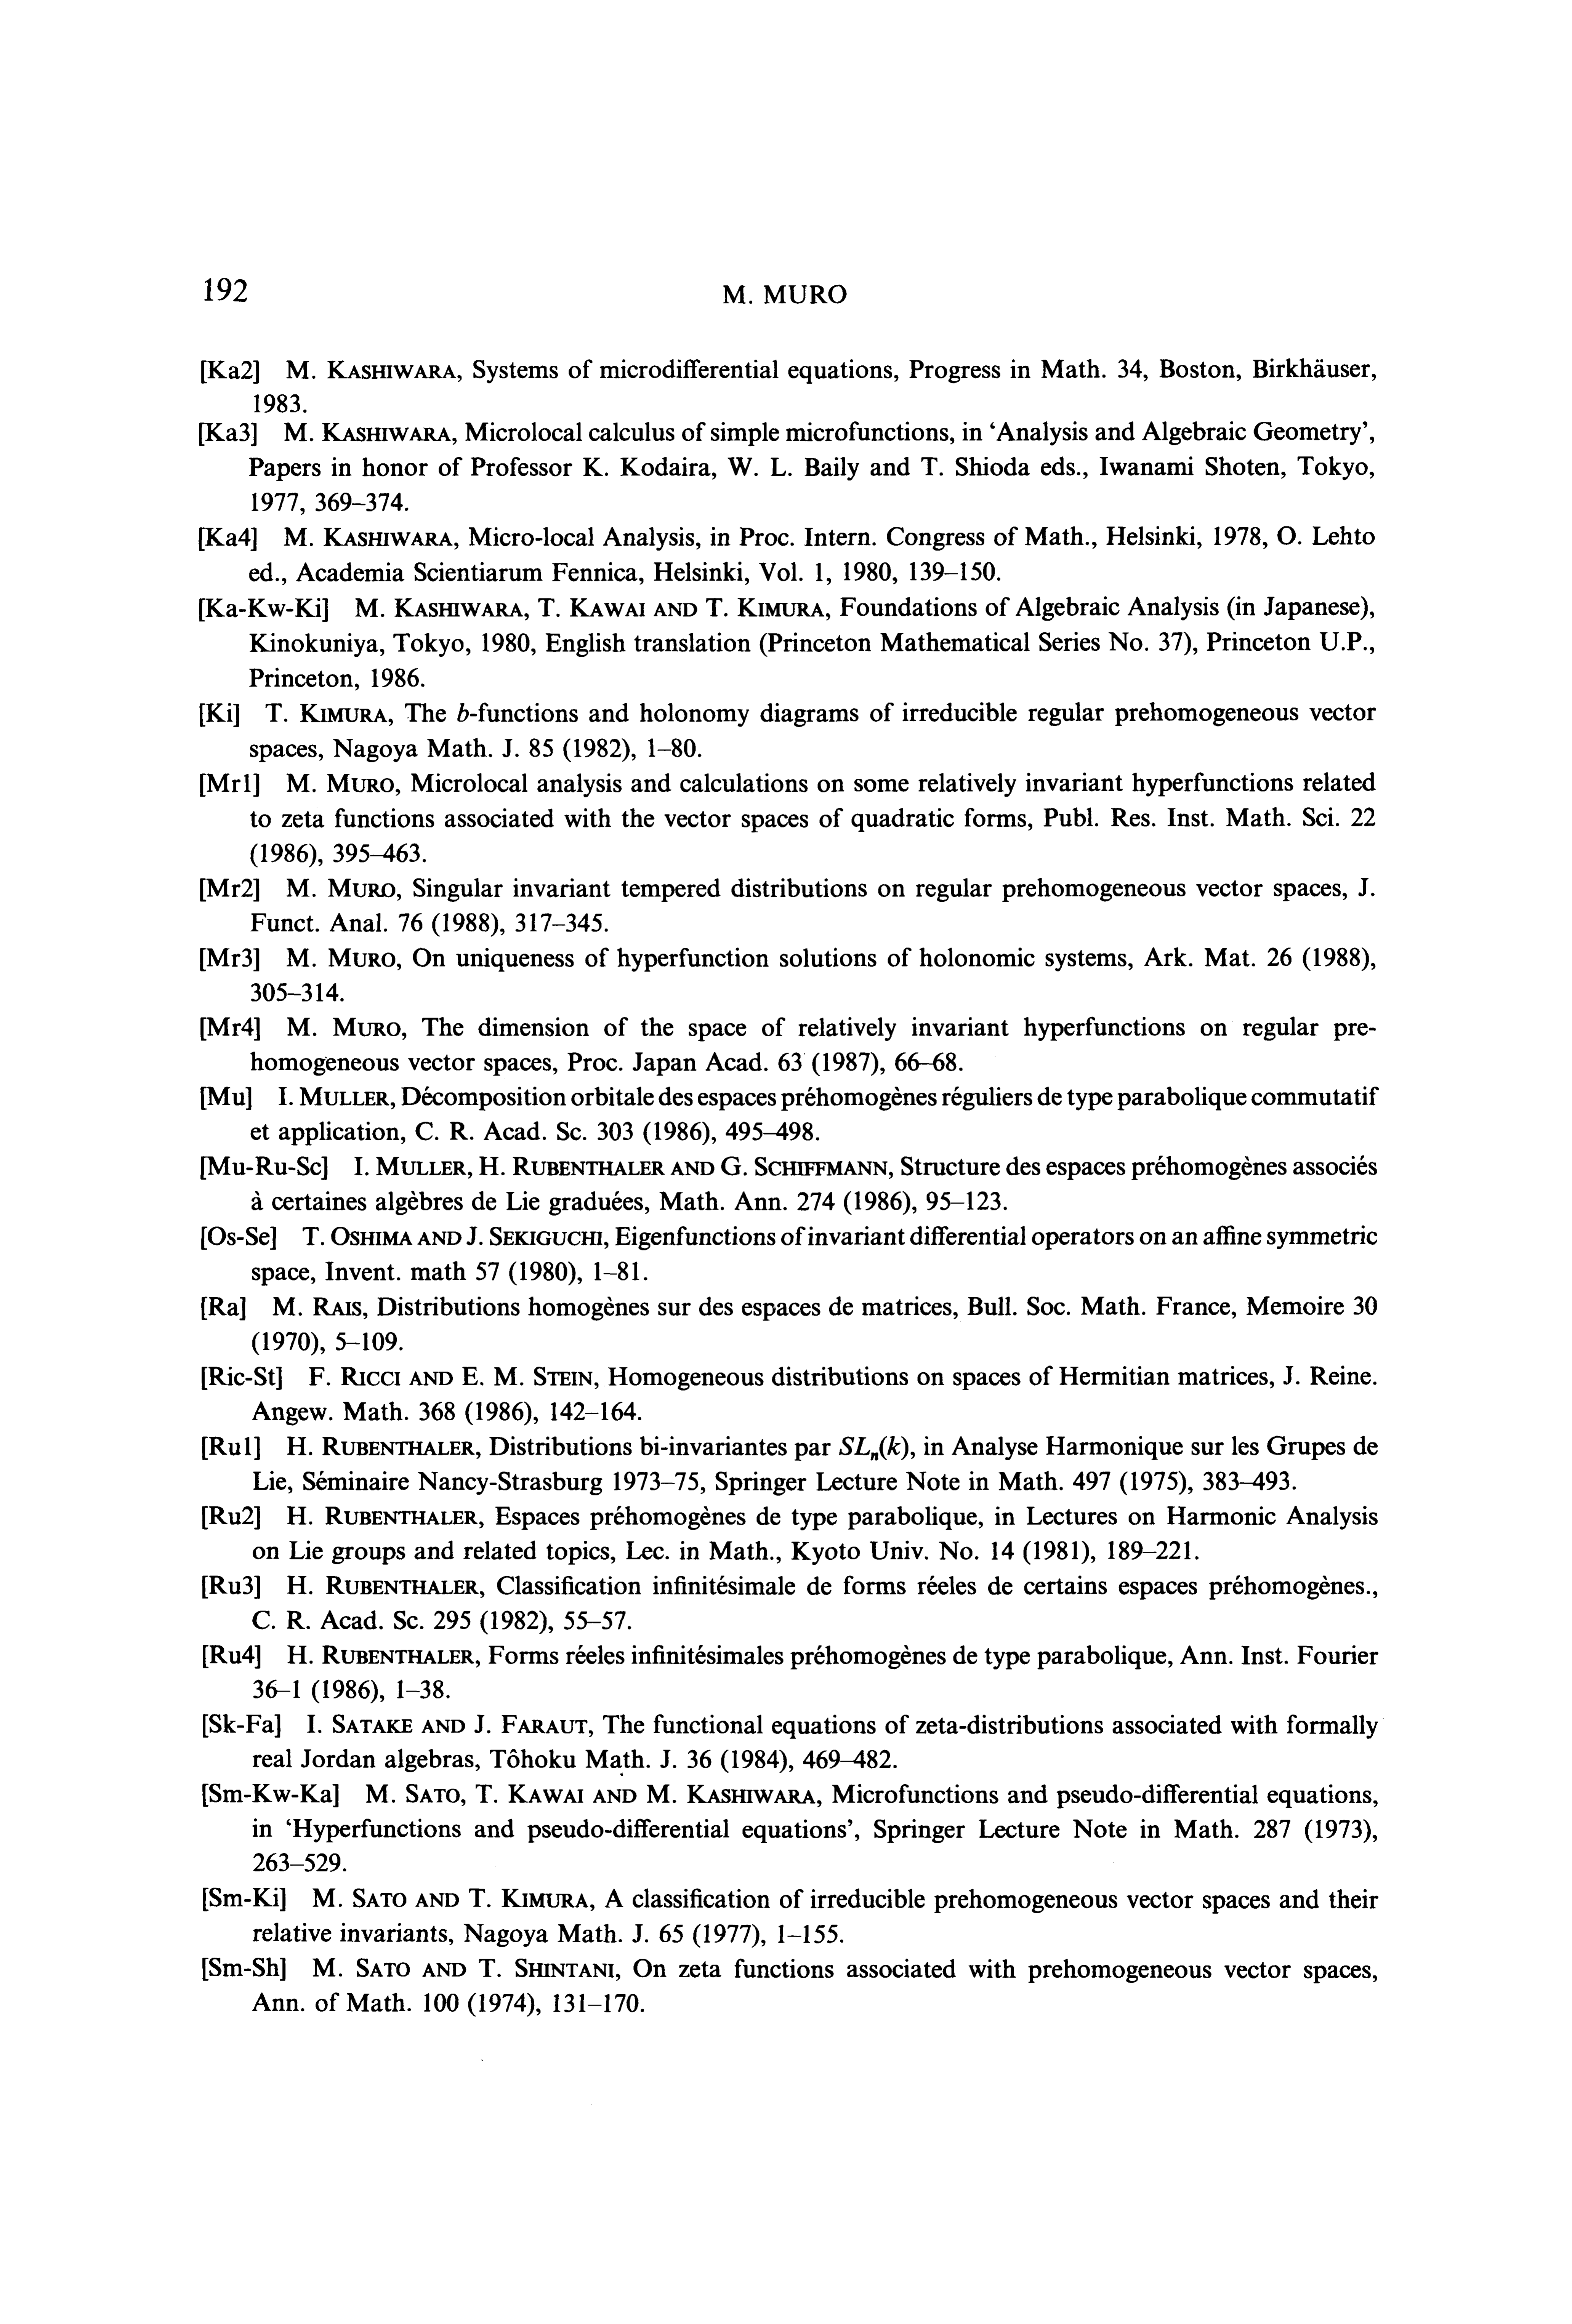maths: (823, 1436, 900, 1461), (435, 709, 446, 721)
